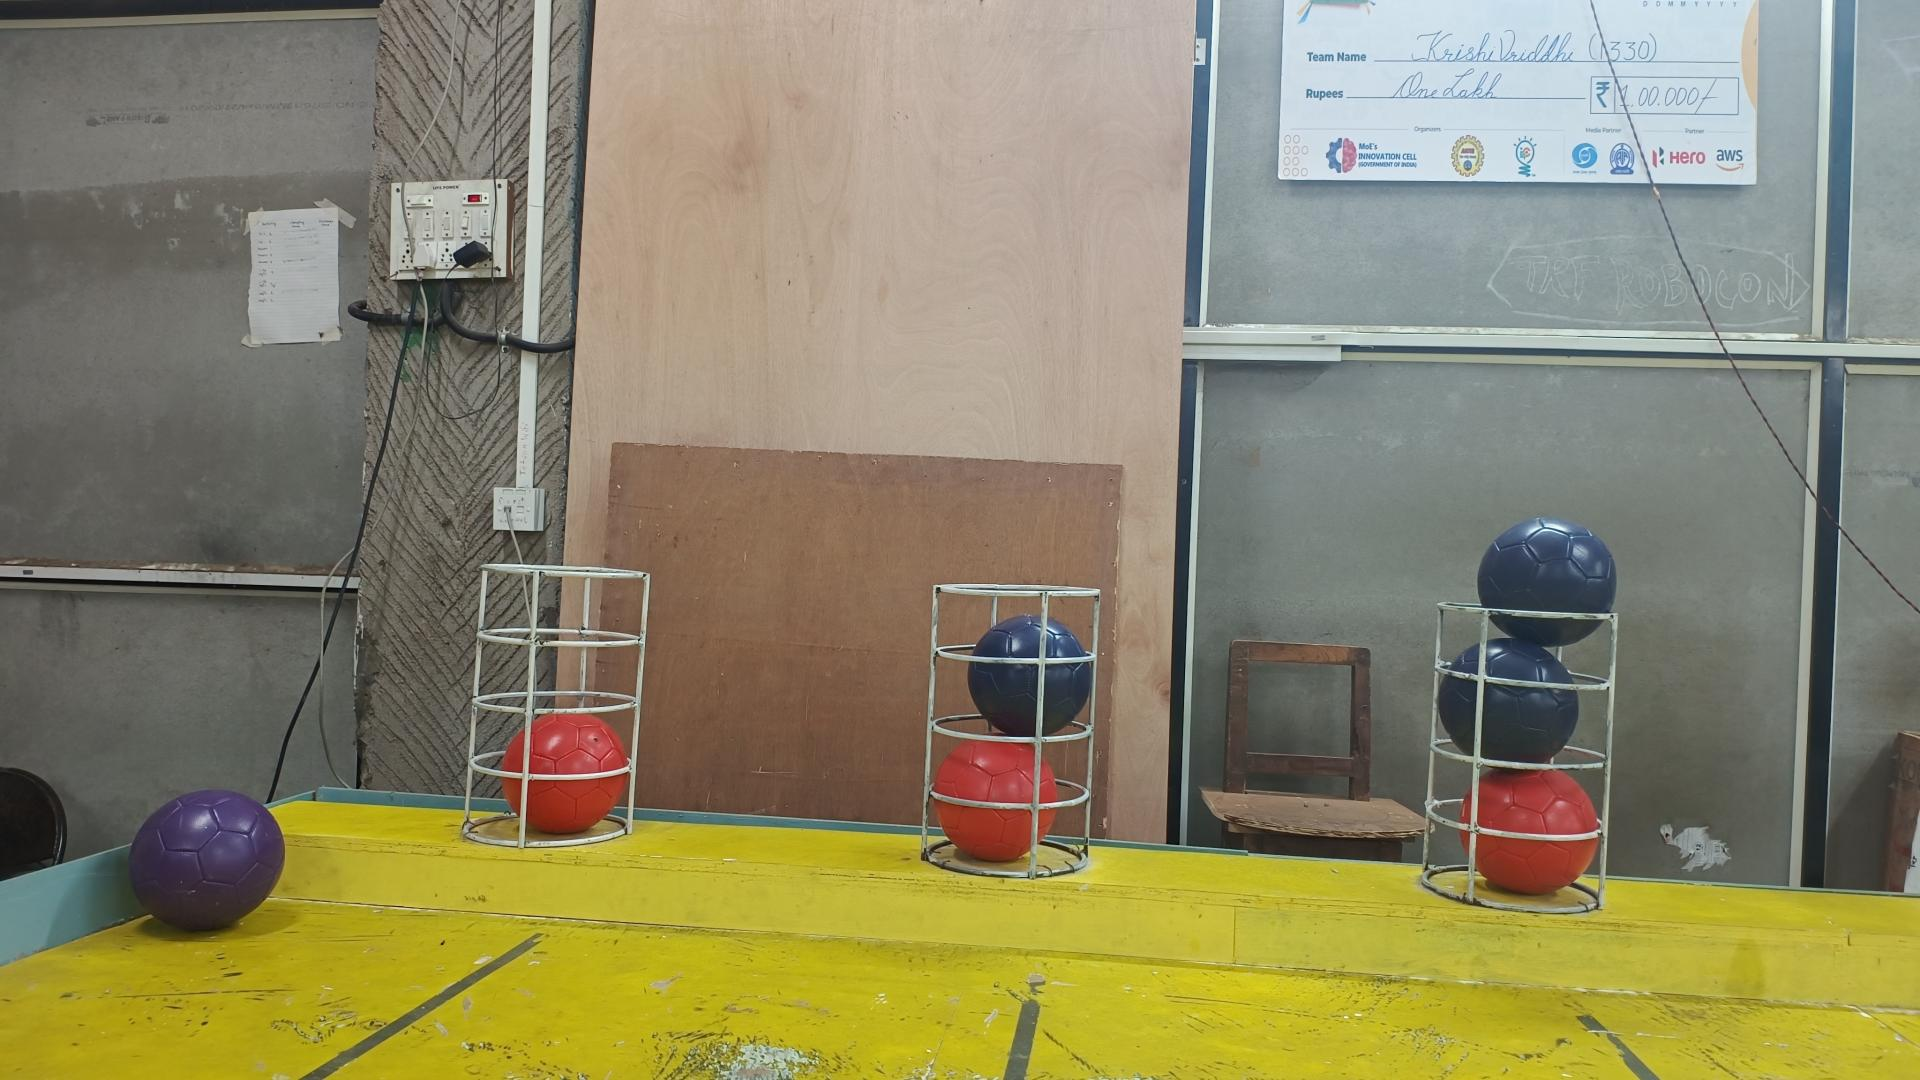dhoka: (1477, 517, 1617, 649), (1436, 637, 1578, 765), (968, 615, 1092, 738)
laale: (1458, 769, 1601, 897), (934, 738, 1058, 862), (502, 712, 630, 832)
